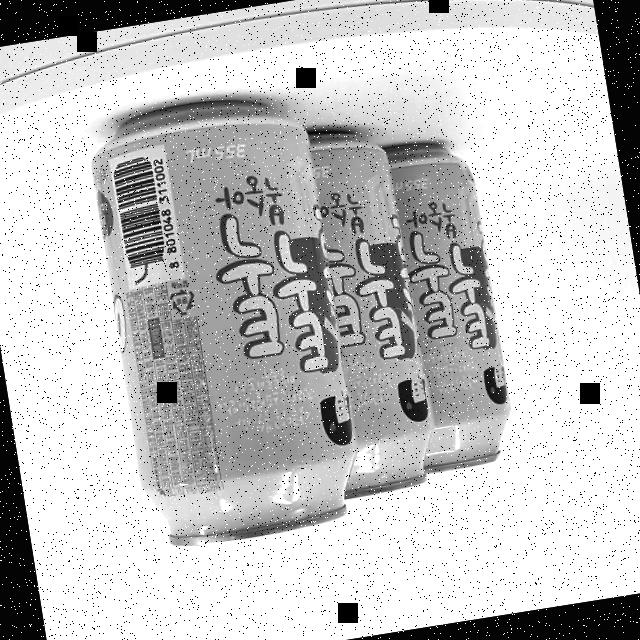can: (83, 86, 371, 554), (202, 120, 445, 514), (312, 136, 520, 484)
